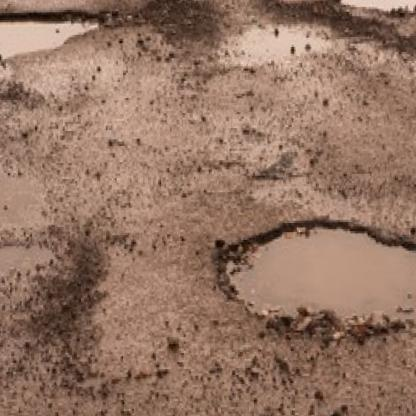pothole: (216, 219, 416, 338), (0, 9, 108, 67)
